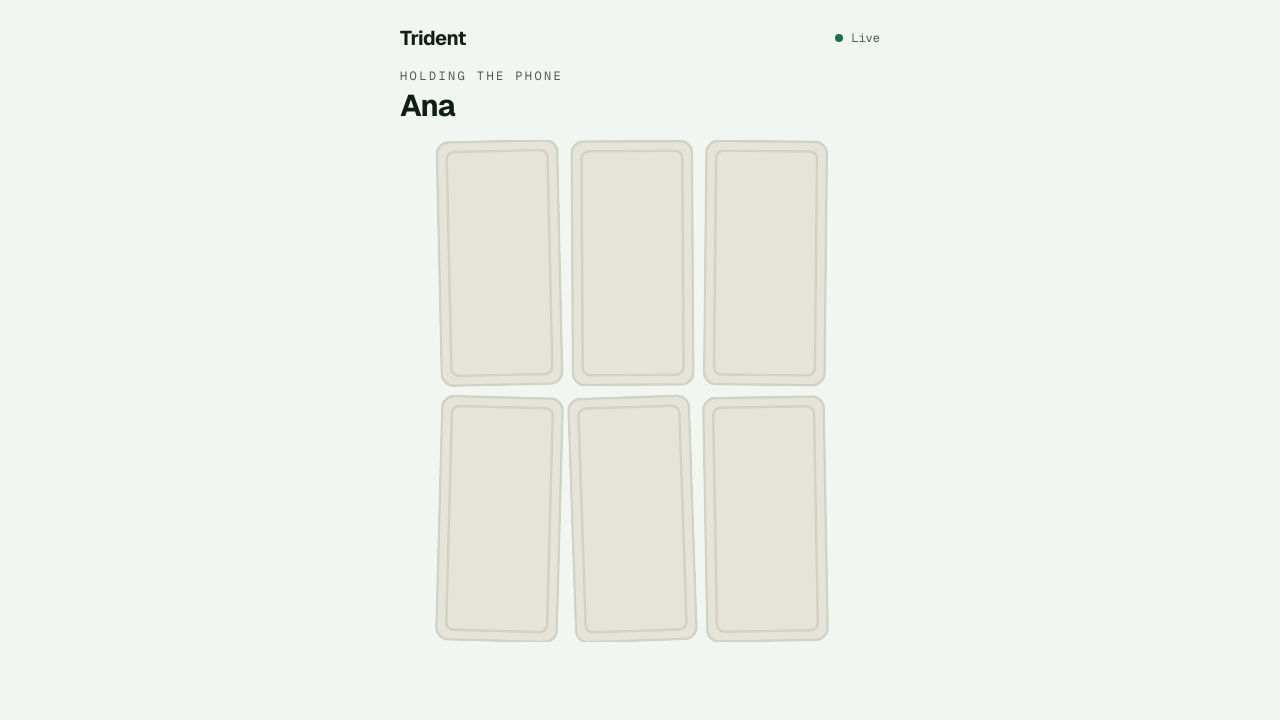
Test: the phone screen › refuses the board while the question is on screen, without taking it apart
Expected: the element showing "Holding the phone Ana" is shown, x1=400 y1=68 x2=563 y2=125
What coordinates should you click on to do the following:
click the 3rd button
I would click on:
 (766, 263)
Its box is x1=704 y1=140 x2=827 y2=386.
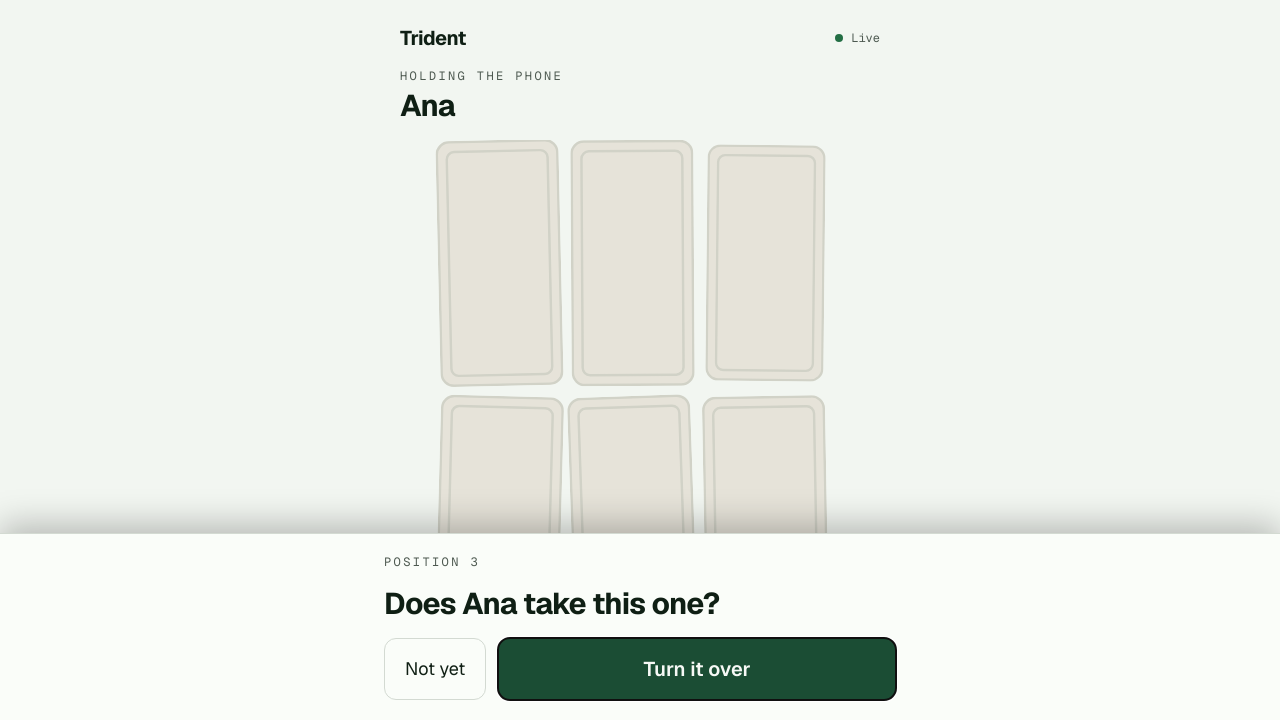
Result: the dialog is shown at x1=0 y1=533 x2=1279 y2=719
